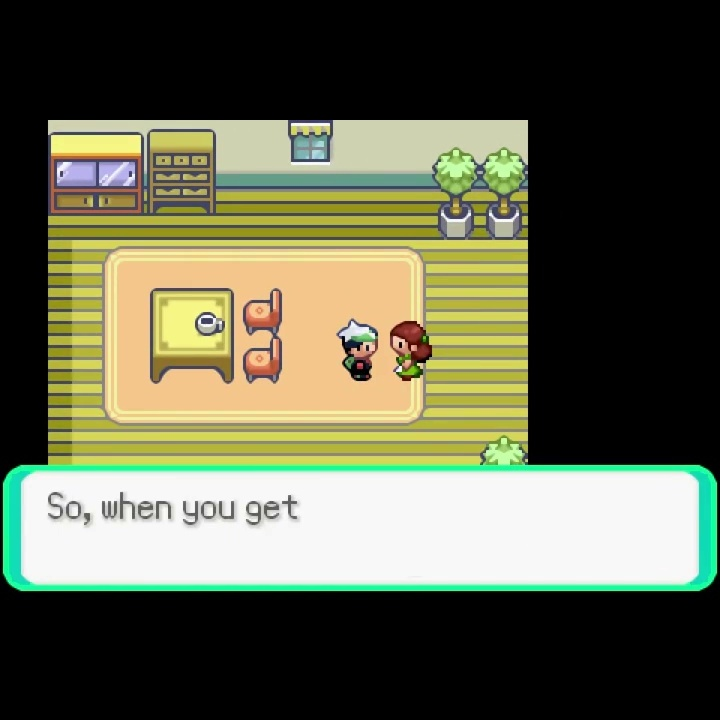npc: (336, 317, 381, 387), (388, 320, 435, 383)
